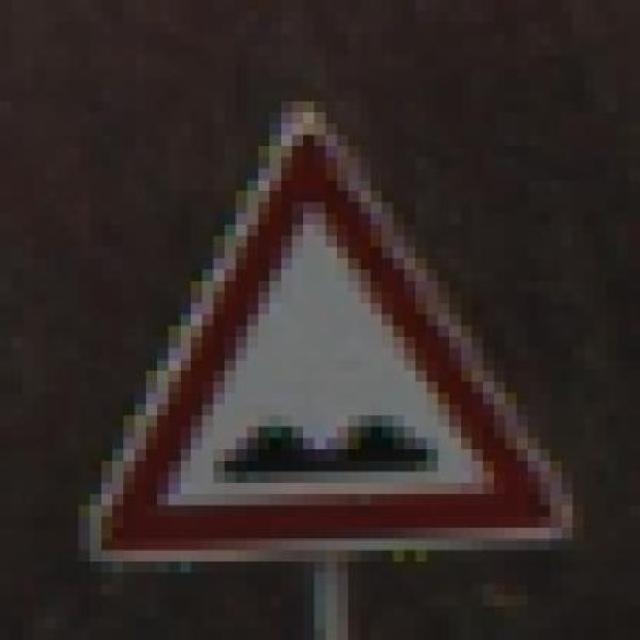Uneven Road: (90, 101, 584, 562)
